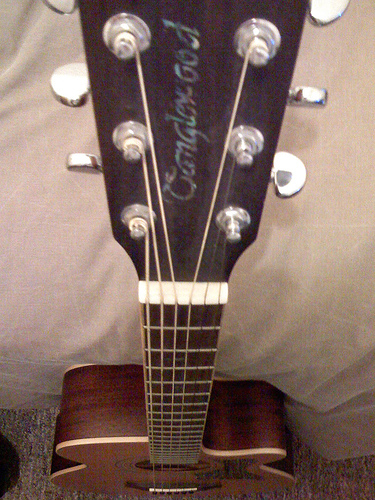guitar: (38, 1, 316, 499)
